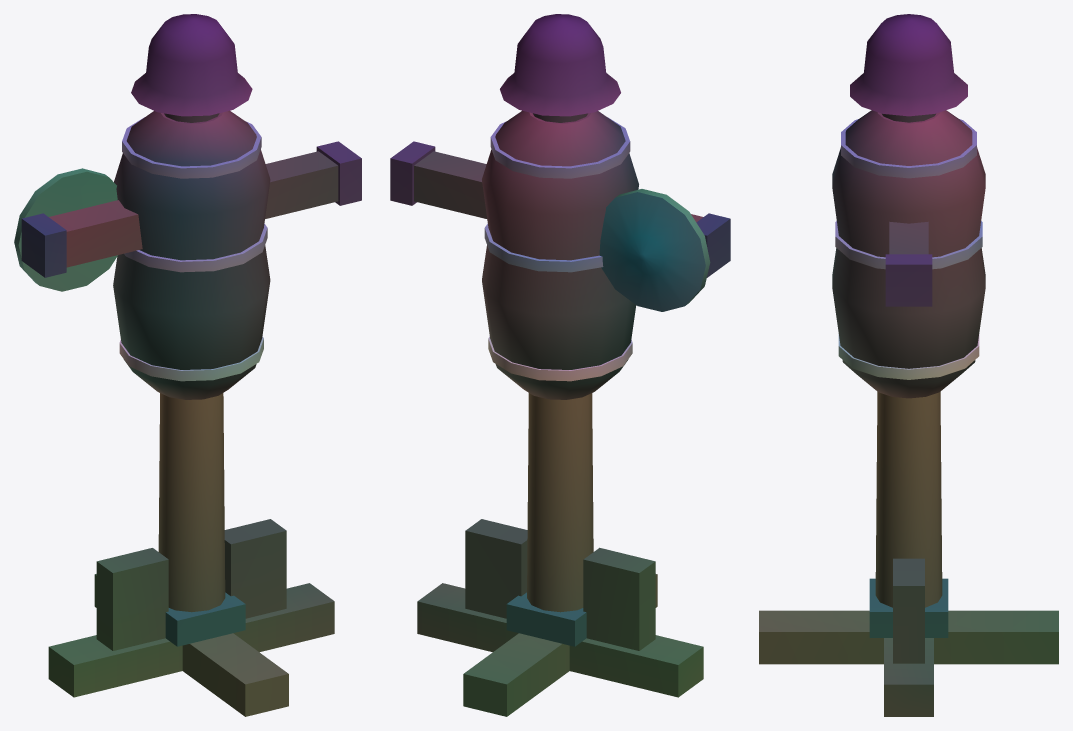
File: pell.glb
3 views of the same model, side by side, from view 1: azimuth 30°, elevation 25°; view 2: azimuth 150°, elevation 25°; view 3: azimuth 270°, elevation 25° (orthographic).
Visible parts, largest first — view 1: arms, torso, post, pell_helm, pell_iron, pell_buckler, rope_band.002, rope_band.001, rope_band; view 2: torso, arms, post, pell_buckler, pell_helm, pell_iron, rope_band.002, rope_band, rope_band.001; view 3: torso, arms, post, pell_helm, pell_iron, rope_band.002, rope_band, rope_band.001.
Boxes of the visible parts, box(x1,y1,x2,y2) form: arms: box(48, 151, 338, 716); torso: box(113, 110, 270, 399); post: box(158, 113, 225, 612); pell_helm: box(131, 14, 252, 116); pell_iron: box(21, 141, 361, 646); pell_buckler: box(14, 168, 117, 291); rope_band.002: box(122, 117, 261, 178); rope_band.001: box(124, 223, 267, 272); rope_band: box(119, 336, 263, 381); torso: box(482, 110, 638, 399); arms: box(414, 151, 703, 716); post: box(527, 113, 593, 612); pell_buckler: box(599, 189, 710, 311); pell_helm: box(500, 14, 620, 116); pell_iron: box(390, 141, 730, 646); rope_band.002: box(490, 117, 630, 178); rope_band: box(488, 336, 632, 381); rope_band.001: box(484, 223, 603, 272); torso: box(832, 110, 985, 398); arms: box(759, 221, 1058, 716); post: box(875, 113, 942, 607); pell_helm: box(850, 14, 967, 116); pell_iron: box(869, 254, 948, 637); rope_band.002: box(841, 119, 976, 178); rope_band: box(838, 334, 979, 379); rope_band.001: box(835, 221, 982, 269).
Size of the model in its own units: 1.03 by 1.96 by 0.84.
